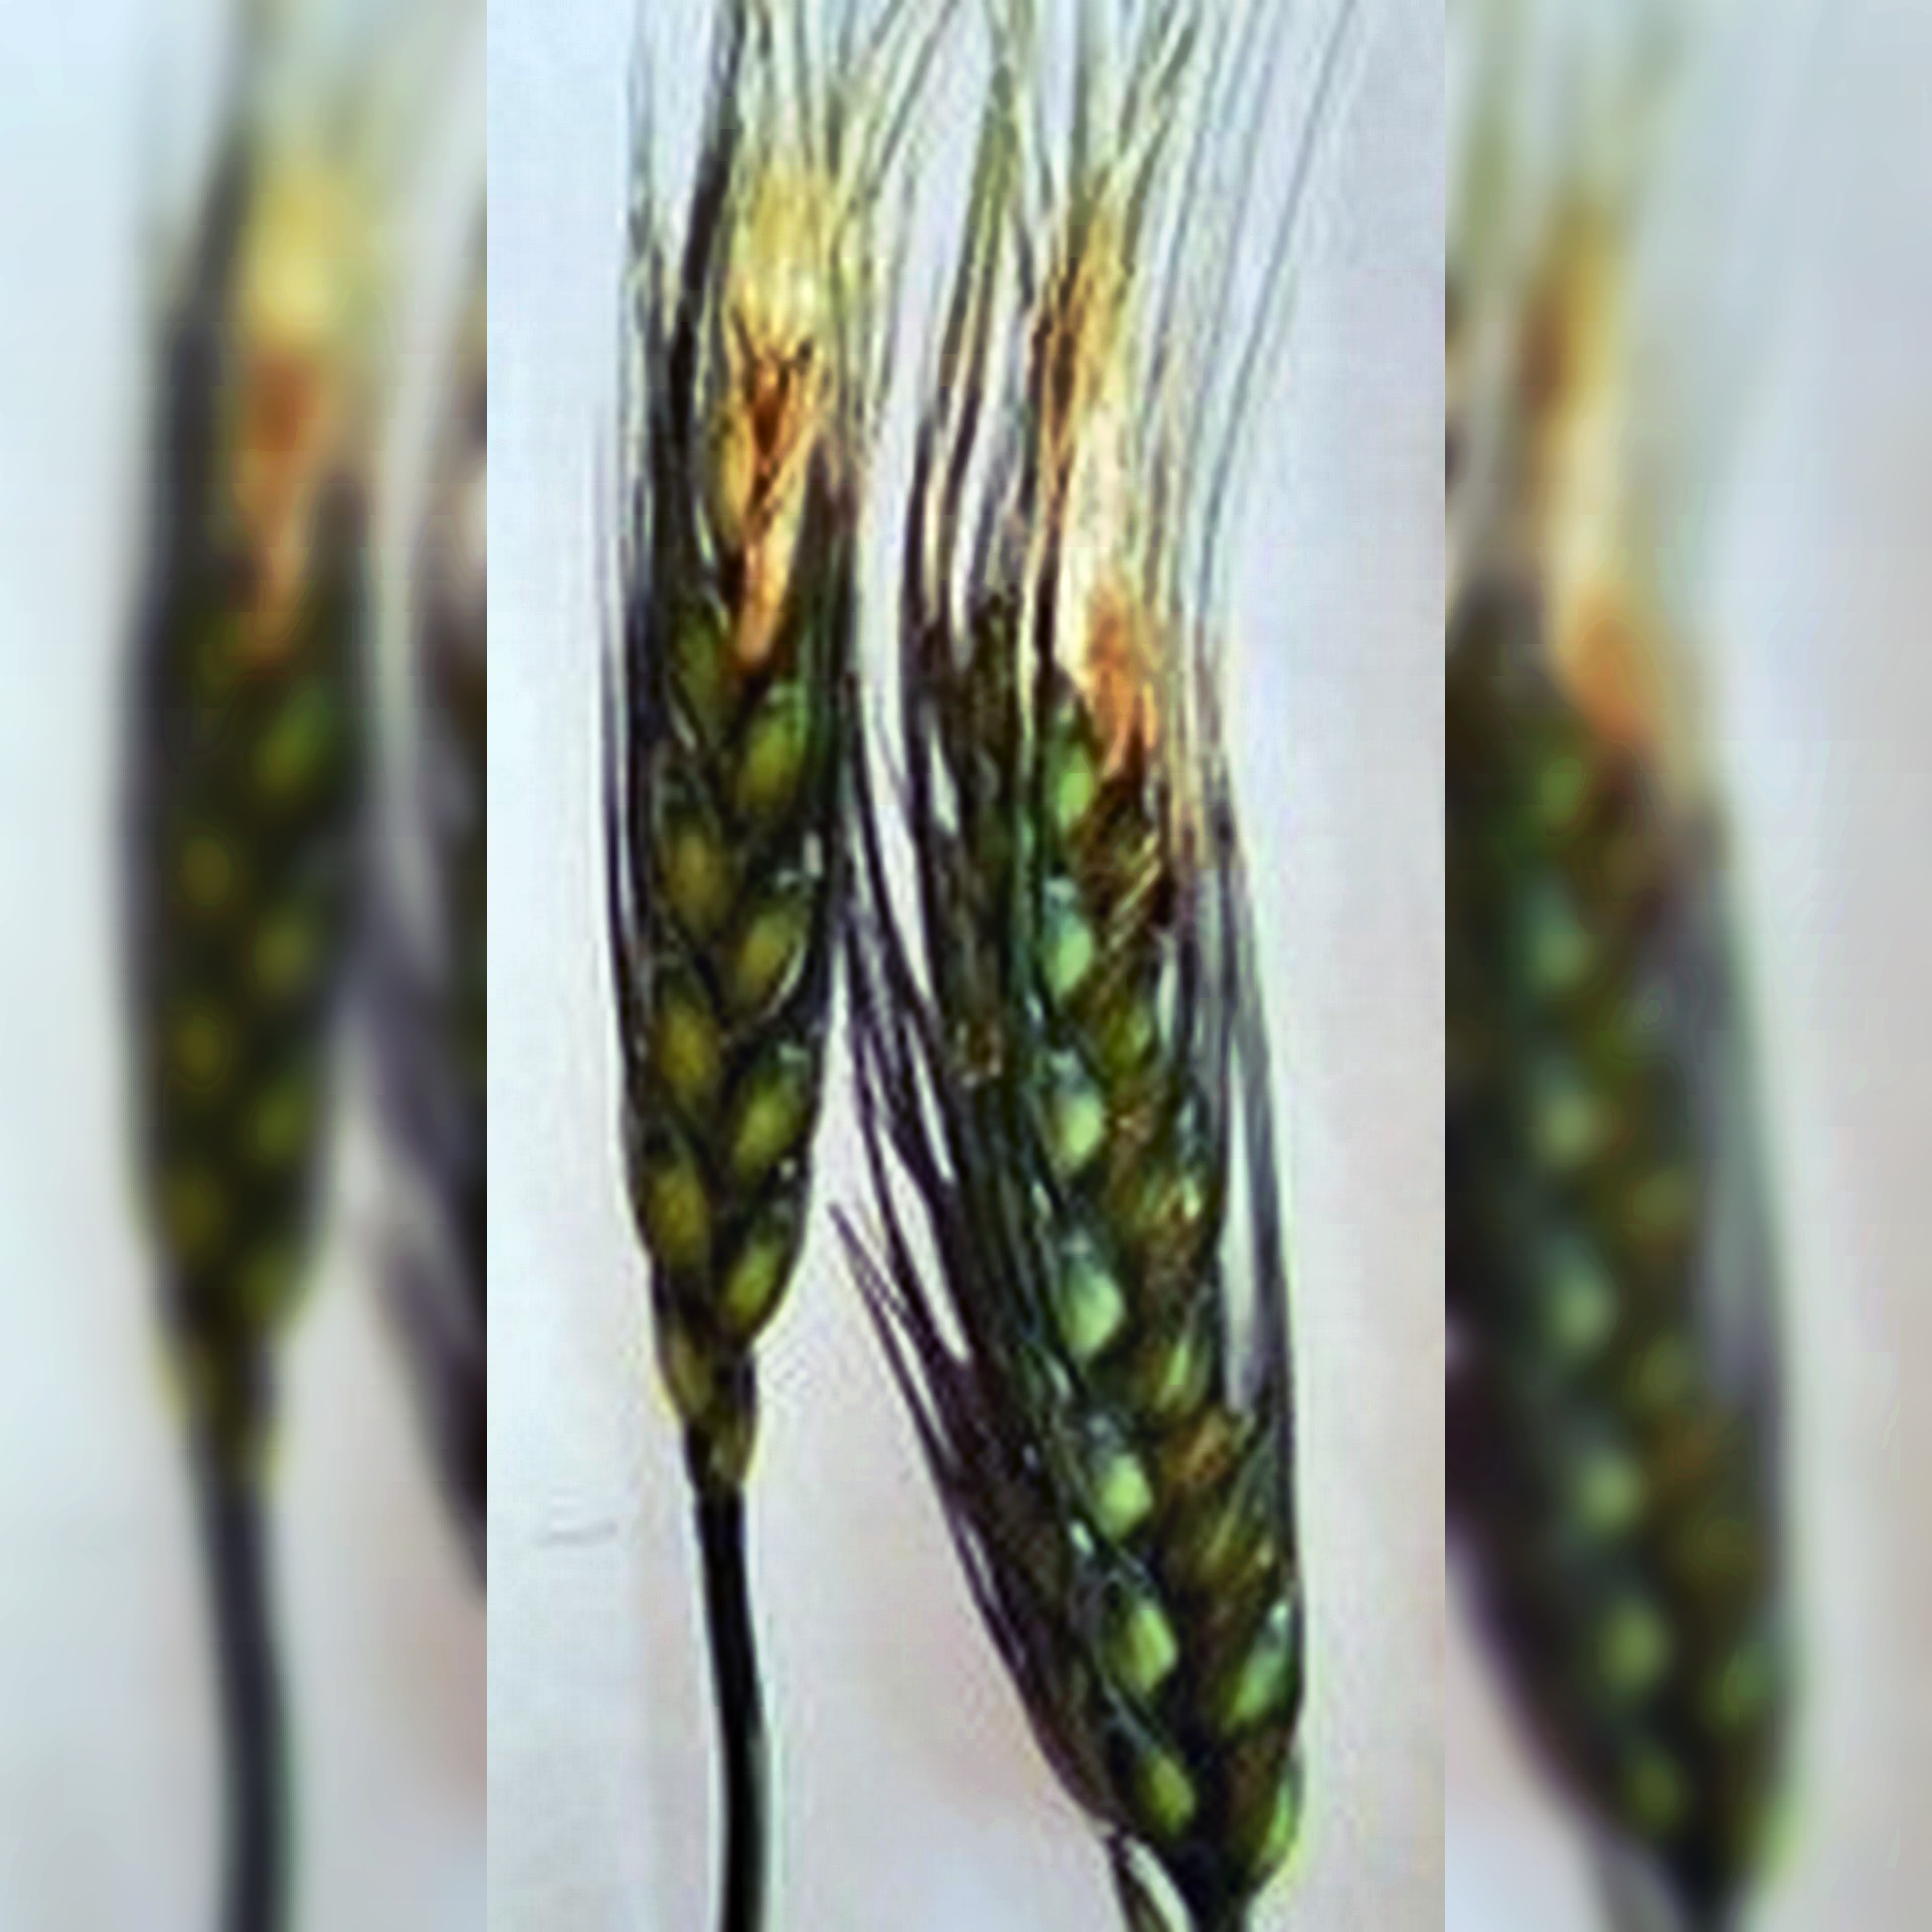Wheat scab: (612, 127, 1253, 1116)
